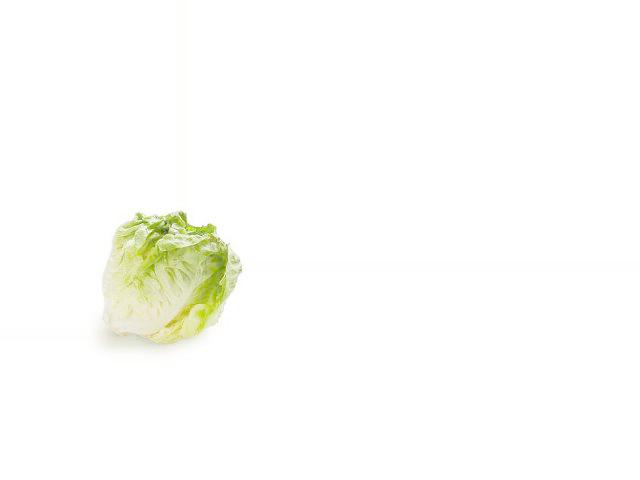lettuce: (70, 201, 223, 333)
